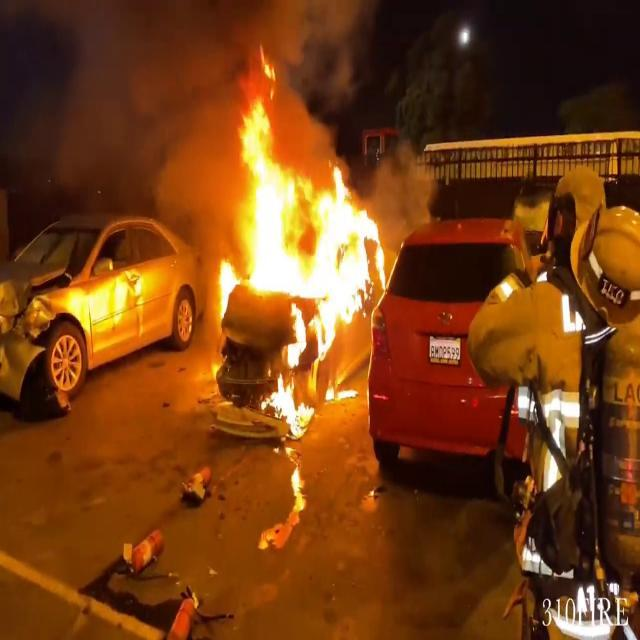Fire: (203, 72, 394, 414)
